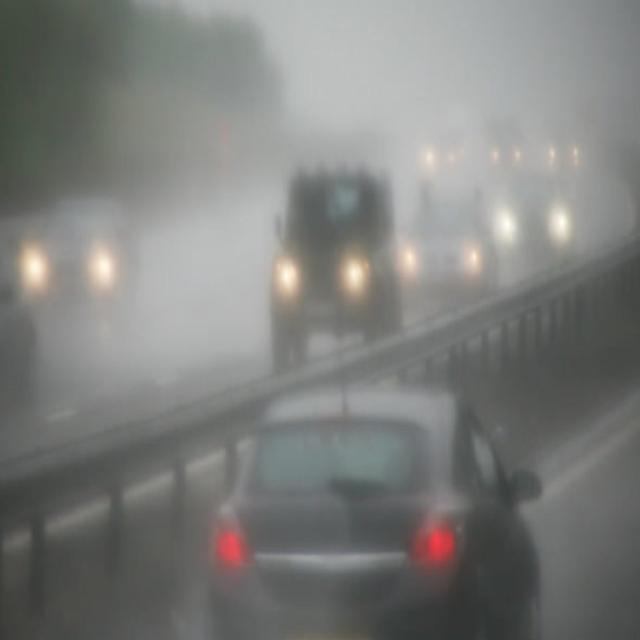car: (218, 391, 541, 636), (271, 170, 401, 338), (22, 195, 140, 319), (400, 203, 492, 296), (494, 173, 570, 259), (545, 127, 583, 173), (424, 124, 456, 176), (490, 126, 526, 170), (454, 116, 472, 172)
